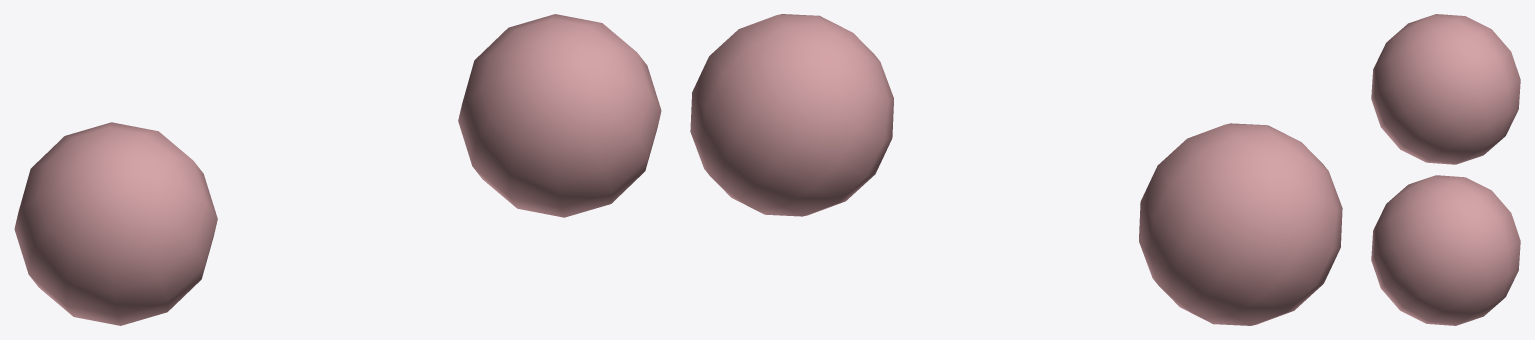
The picture shows the model from 3 angles, left to right: view 1: azimuth 30°, elevation 25°; view 2: azimuth 150°, elevation 25°; view 3: azimuth 270°, elevation 25°; orthographic projection. The views are drawn at different scales.
Parts seen in each view (by area): view 1: ZA_751b7c00ef199660; view 2: ZA_751b7c00ef199660; view 3: ZA_751b7c00ef199660.
Boxes of the visible parts, x1,y1,x2,y2 form: ZA_751b7c00ef199660: (14, 14, 661, 325); ZA_751b7c00ef199660: (690, 14, 1342, 325); ZA_751b7c00ef199660: (1371, 14, 1520, 325).
Size of the model in its own units: 0.00911 by 0.00258 by 0.00256.
